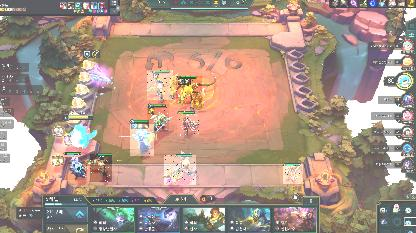1_idas: (176, 76, 202, 104)
1_jayce: (164, 155, 196, 185)
1_leona: (63, 152, 87, 180)
1_nasus: (147, 70, 173, 100), (90, 154, 112, 182)
1_rakan: (177, 111, 199, 137)
1_twitch: (283, 164, 303, 184)
2_jax: (147, 104, 169, 132)
2_yone: (130, 124, 154, 156)
